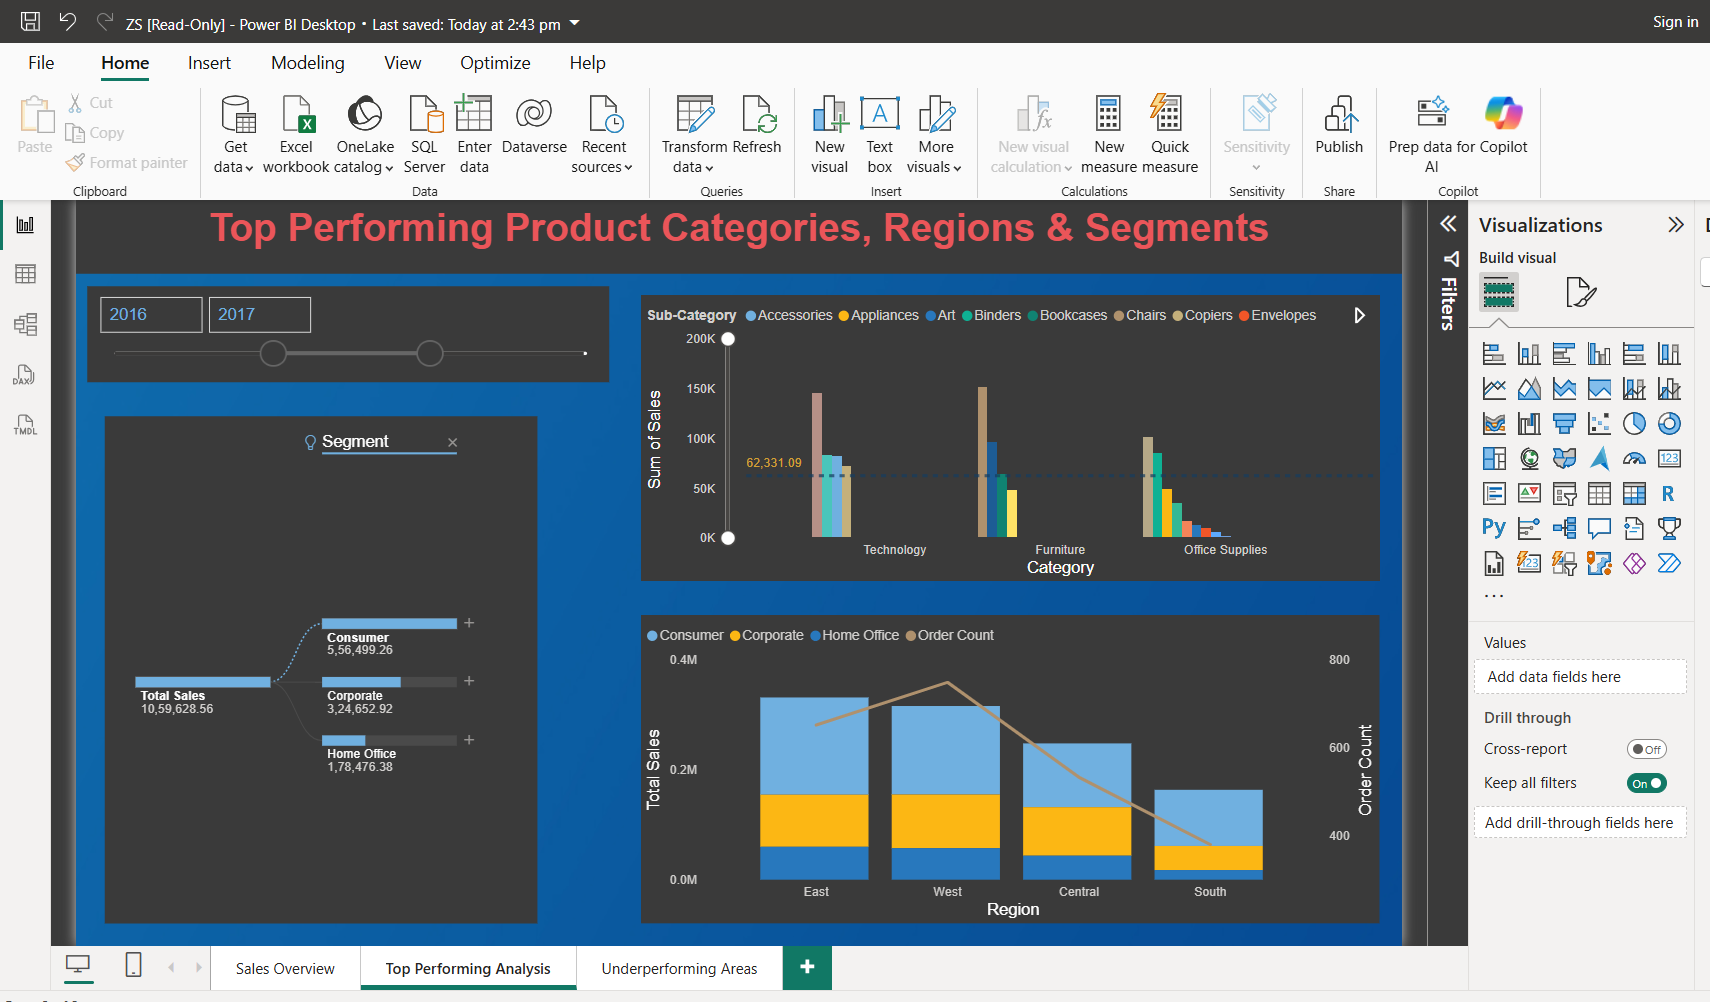

What the dashboard file says about the page in this screenshot:
{"tool":"powerbi","page":{"name":"Top Performing Analysis","canvas":[1280,720],"ordinal":1},"visuals":[{"type":"decompositionTreeVisual","fields":{"Analyze":["sales_data.Total Sales"],"ExplainBy":["sales_data.Segment","sales_data.Category","sales_data.Region","sales_data.City"]},"box":[27.7,208.7,417.4,489.8],"z":0},{"type":"clusteredColumnChart","fields":{"Category":["sales_data.Category"],"Y":["sales_data.Sales"],"Series":["sales_data.Sub-Category"]},"box":[545.3,91.7,713,276.3],"z":1000},{"type":"lineStackedColumnComboChart","fields":{"Y":["sales_data.Total Sales"],"Category":["sales_data.Region"],"Y2":["sales_data.Order Count"],"Series":["sales_data.Segment"]},"box":[545.3,400.5,713,298],"z":2000},{"type":"textbox","box":[0,0,1280,71.5],"z":3000},{"type":"slicer","title":"Year","fields":{"Values":["sales_data.Order Date.Variation.Date Hierarchy.Year"]},"box":[10.9,83.2,503.1,91.7],"z":4000}]}

Visuals, with their boxes on the page's 1280x720 design canvas (x1, y1, x2, y2). These are canvas units, not pixel positions in the 1710x1002 screenshot, which may show the page scaled, cropped or inside an application window:
decompositionTreeVisual - sales_data.Total Sales x sales_data.Segment: crop(28, 209, 445, 698)
clusteredColumnChart - sales_data.Category x sales_data.Sales: crop(545, 92, 1258, 368)
lineStackedColumnComboChart - sales_data.Total Sales x sales_data.Region: crop(545, 400, 1258, 698)
textbox: crop(0, 0, 1280, 72)
"Year" slicer: crop(11, 83, 514, 175)
